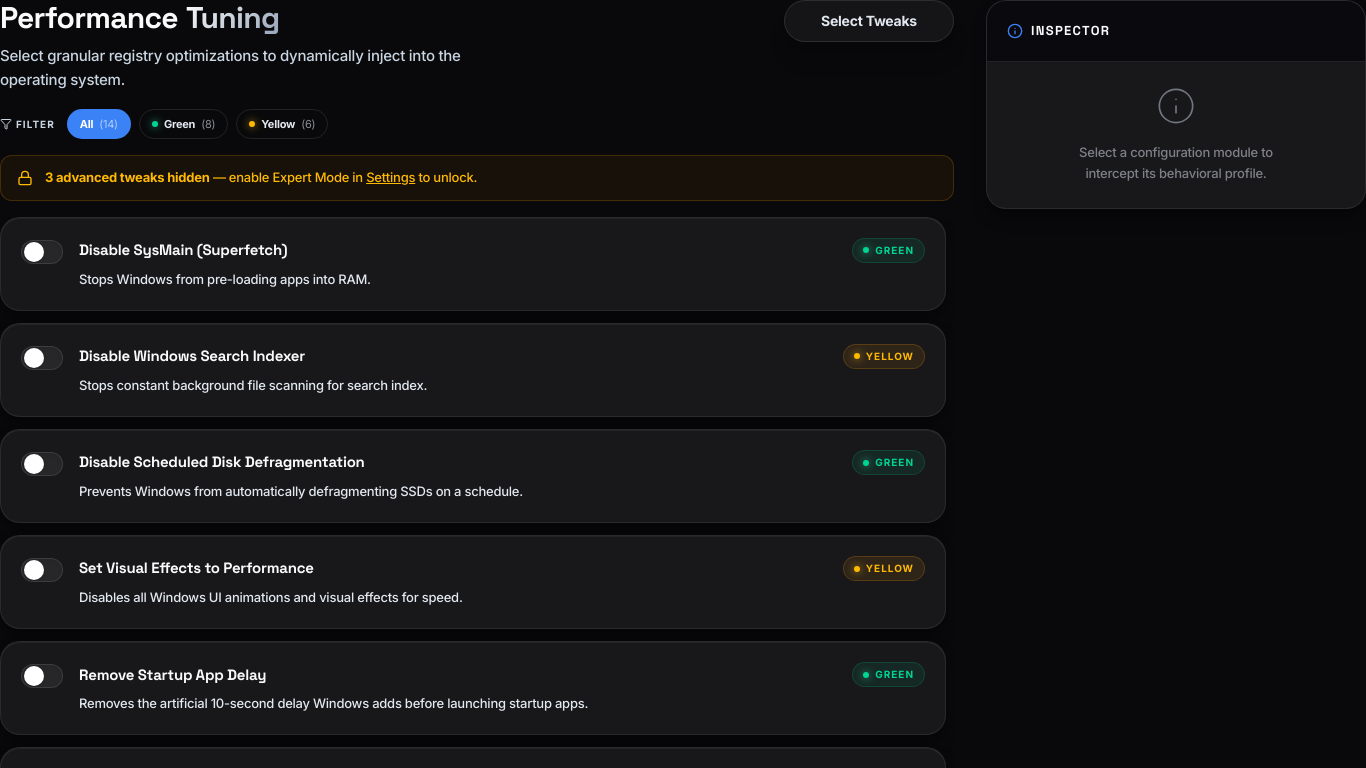
Scenario: TweaksPage integration › opens ConfirmDeployModal when Deploy is clicked
The width and height of the screenshot is (1366, 768).
Click the element named "Toggle selection". click: {"x": 42, "y": 252}
box: [21,240,63,264]
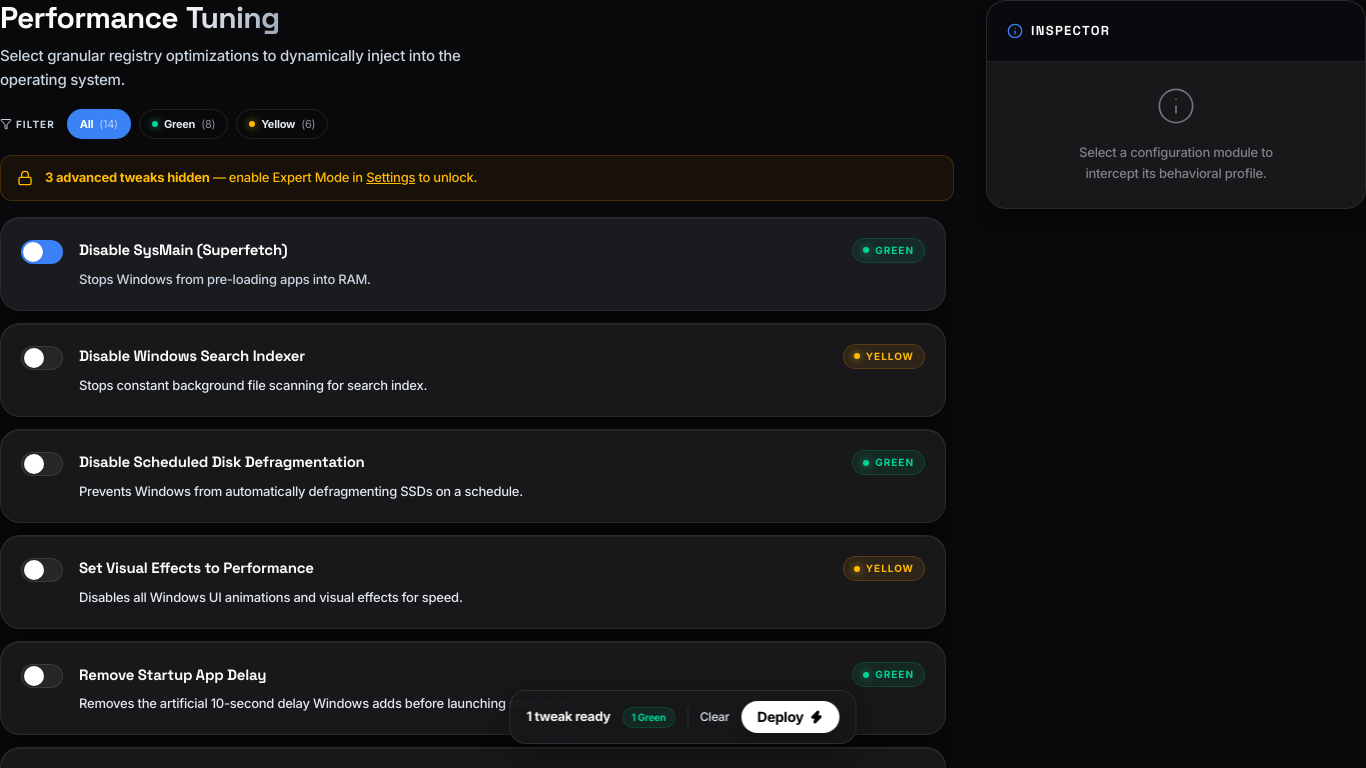
Expected: the text "1 tweak ready" is shown, [526,707,610,727]
Click the button "Deploy". click: {"x": 790, "y": 717}
box: [741,701,840,733]
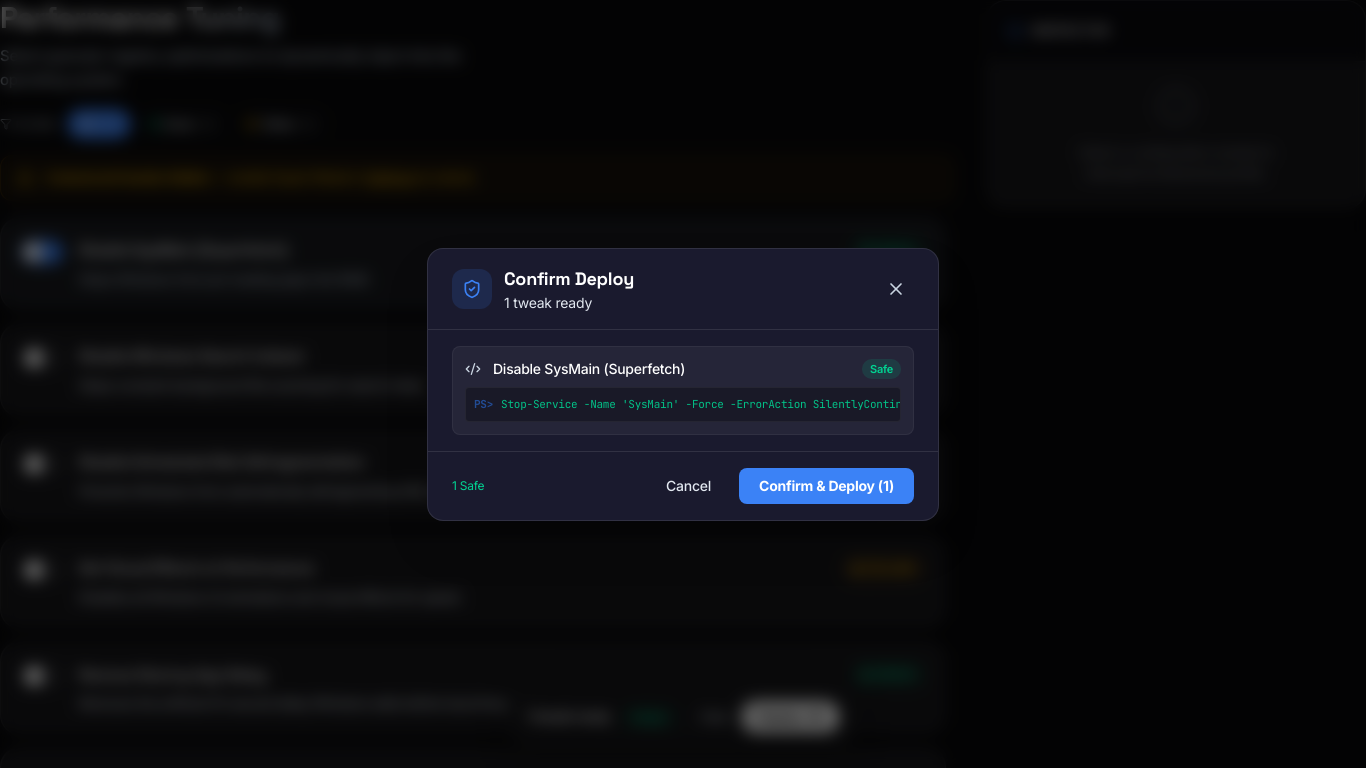
Expected: the heading "Confirm Deploy" is shown, [504,264,634,292]
